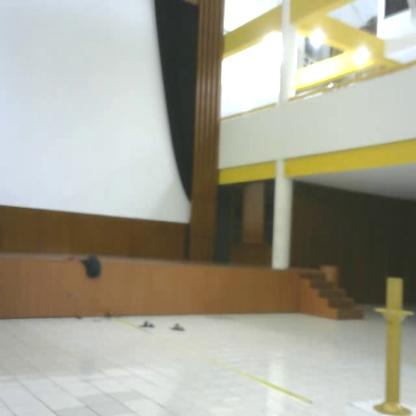pole: (370, 275, 416, 416)
